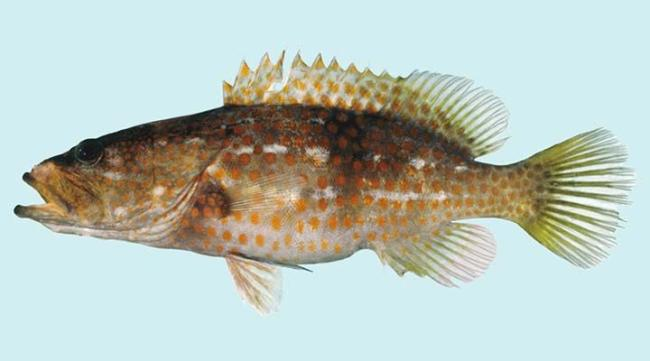fish: (13, 51, 633, 313)
